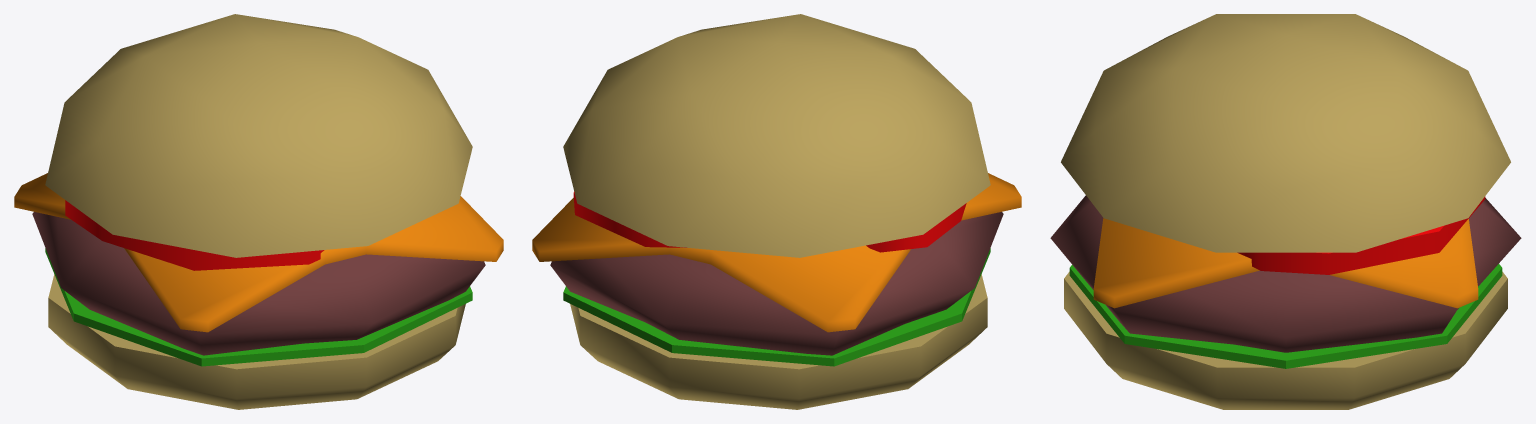
Rendered from hamburger.fbx.
3 renders of one model, left to right at view 1: azimuth 30°, elevation 25°; view 2: azimuth 150°, elevation 25°; view 3: azimuth 270°, elevation 25°, orthographic. The views are drawn at different scales.
Parts seen in each view (by area): view 1: hamburger; view 2: hamburger; view 3: hamburger.
Part boxes in pixels (<box>): hamburger: <box>14,14,503,409</box>; hamburger: <box>532,14,1021,409</box>; hamburger: <box>1050,14,1521,409</box>.
Bounding box in the file's own units: 55.15 × 37.85 × 55.15.
